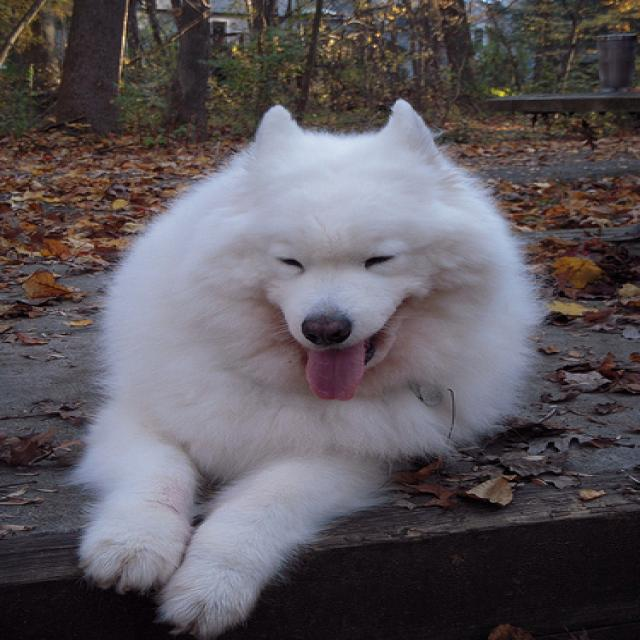dog-samoyed: (53, 88, 555, 637)
